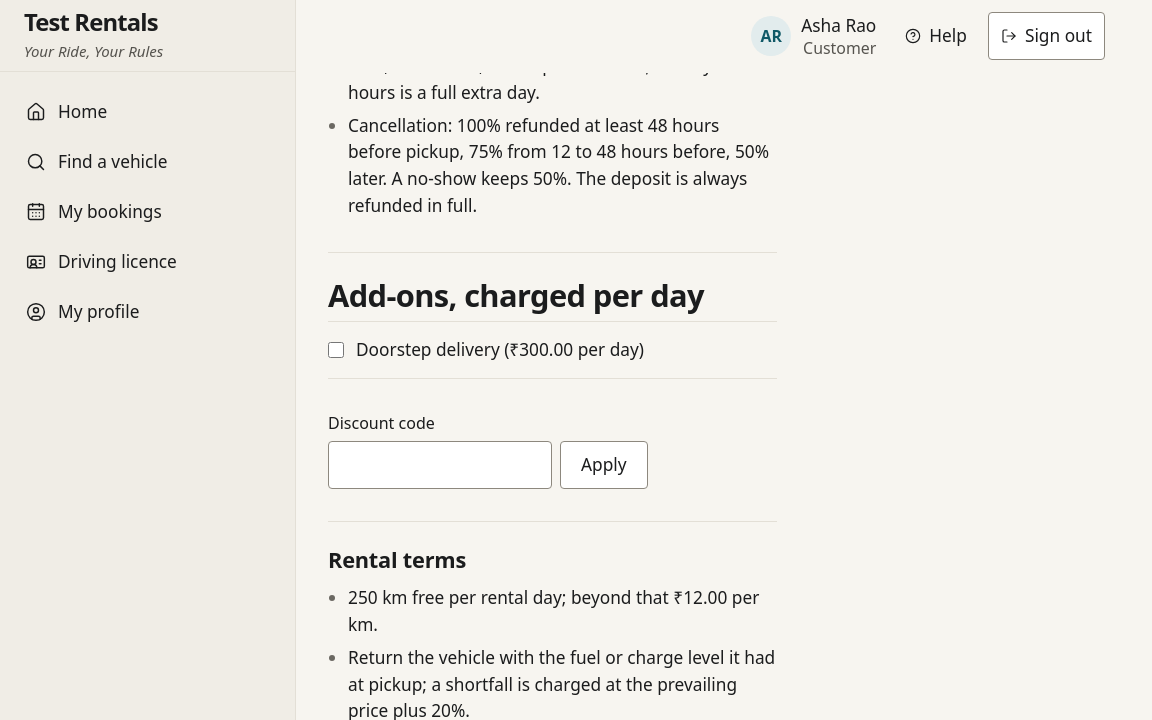
Test: doorstep delivery (Book.Deliver.Location) › needs an address and a six-digit pincode before holding
(page scrolled)
Click the checkbox labelled "Doorstep delivery (₹300.00 per day)". click: (486, 349)
box: [328,338,644,361]
(page scrolled)
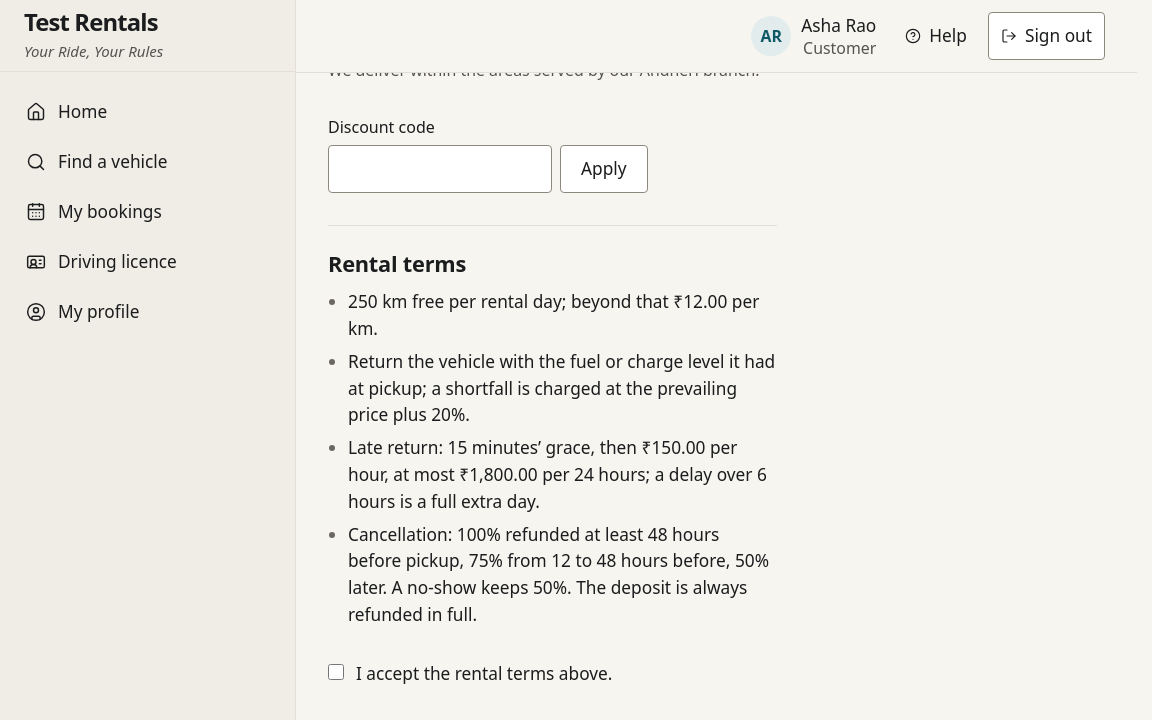
Click the checkbox labelled "I accept the rental terms above.". click: (336, 672)
box: [328,664,344,680]
(page scrolled)
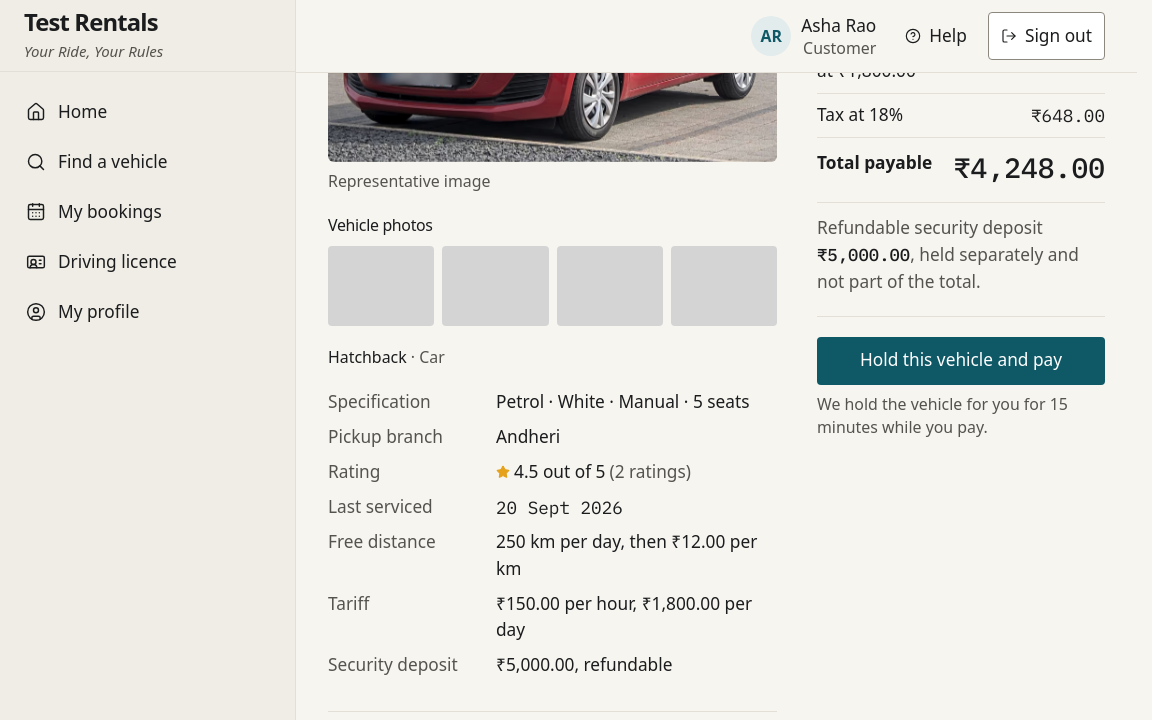
Click the button "Hold this vehicle and pay". click: (961, 361)
box: [817,337,1105,385]
(page scrolled)
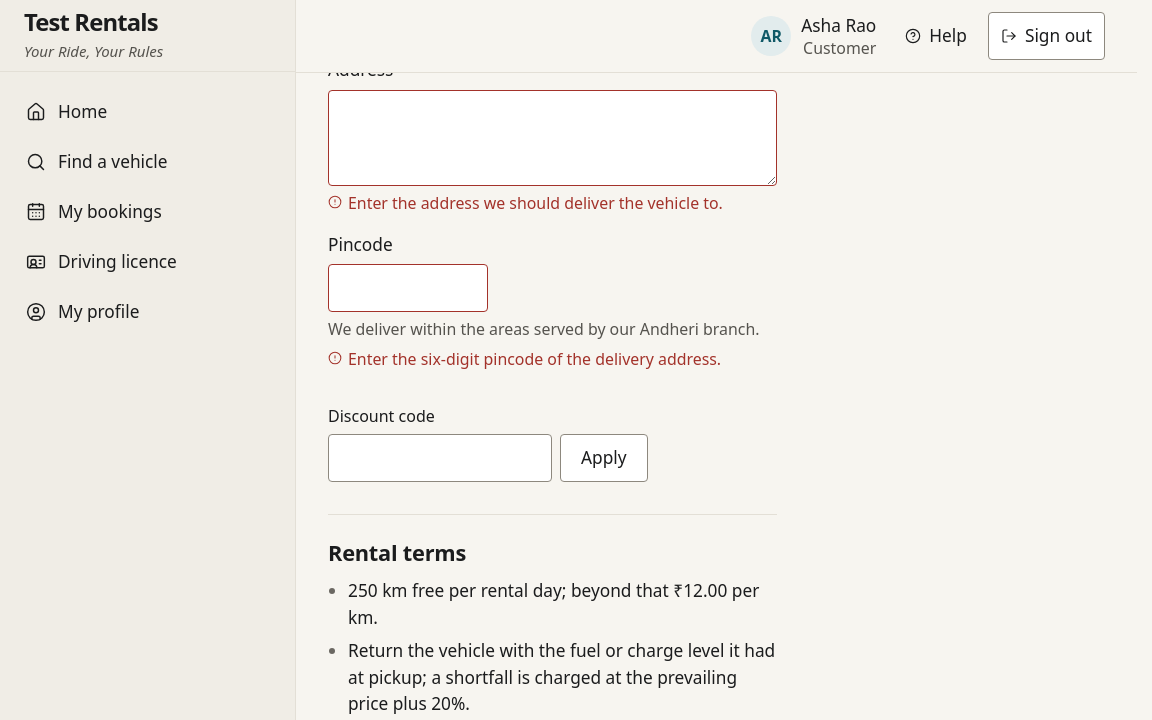
Expected: the text "Enter the address we should deliver the vehicle to." is shown, [348,192,723,216]
Expected: the text "Enter the six-digit pincode of the delivery address." is shown, [348,348,721,372]
